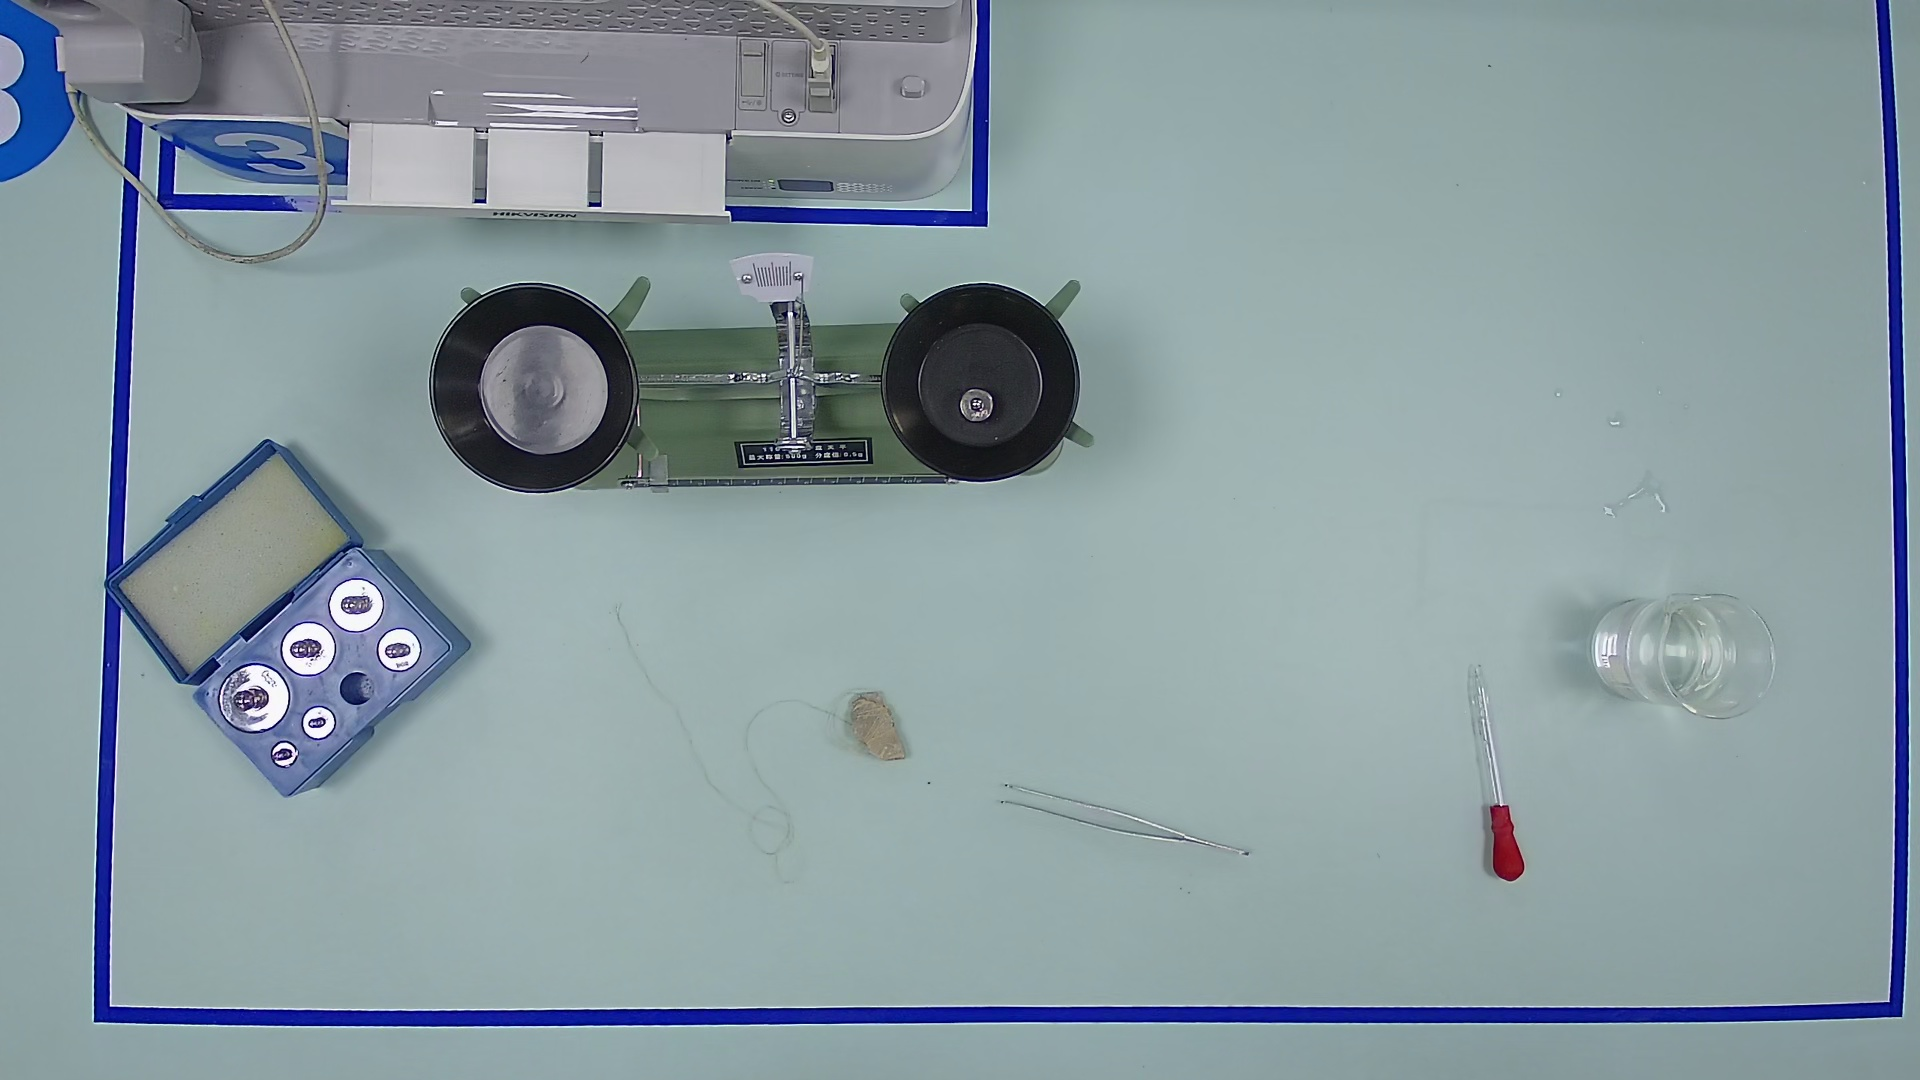bei: (1592, 574, 1778, 729)
diguan: (1439, 650, 1542, 893)
diguantou: (1477, 793, 1536, 887)
fama: (216, 662, 293, 736), (278, 618, 338, 676), (327, 578, 385, 632), (376, 626, 423, 673), (957, 386, 996, 426), (301, 704, 336, 741), (269, 741, 301, 770)
gan: (611, 446, 945, 518)
he: (170, 537, 487, 811)
niezi: (982, 775, 1261, 866)
pointer: (735, 248, 812, 301)
shi: (835, 680, 924, 771)
tuo: (414, 266, 658, 512), (862, 262, 1105, 506)
you: (641, 450, 676, 500)
